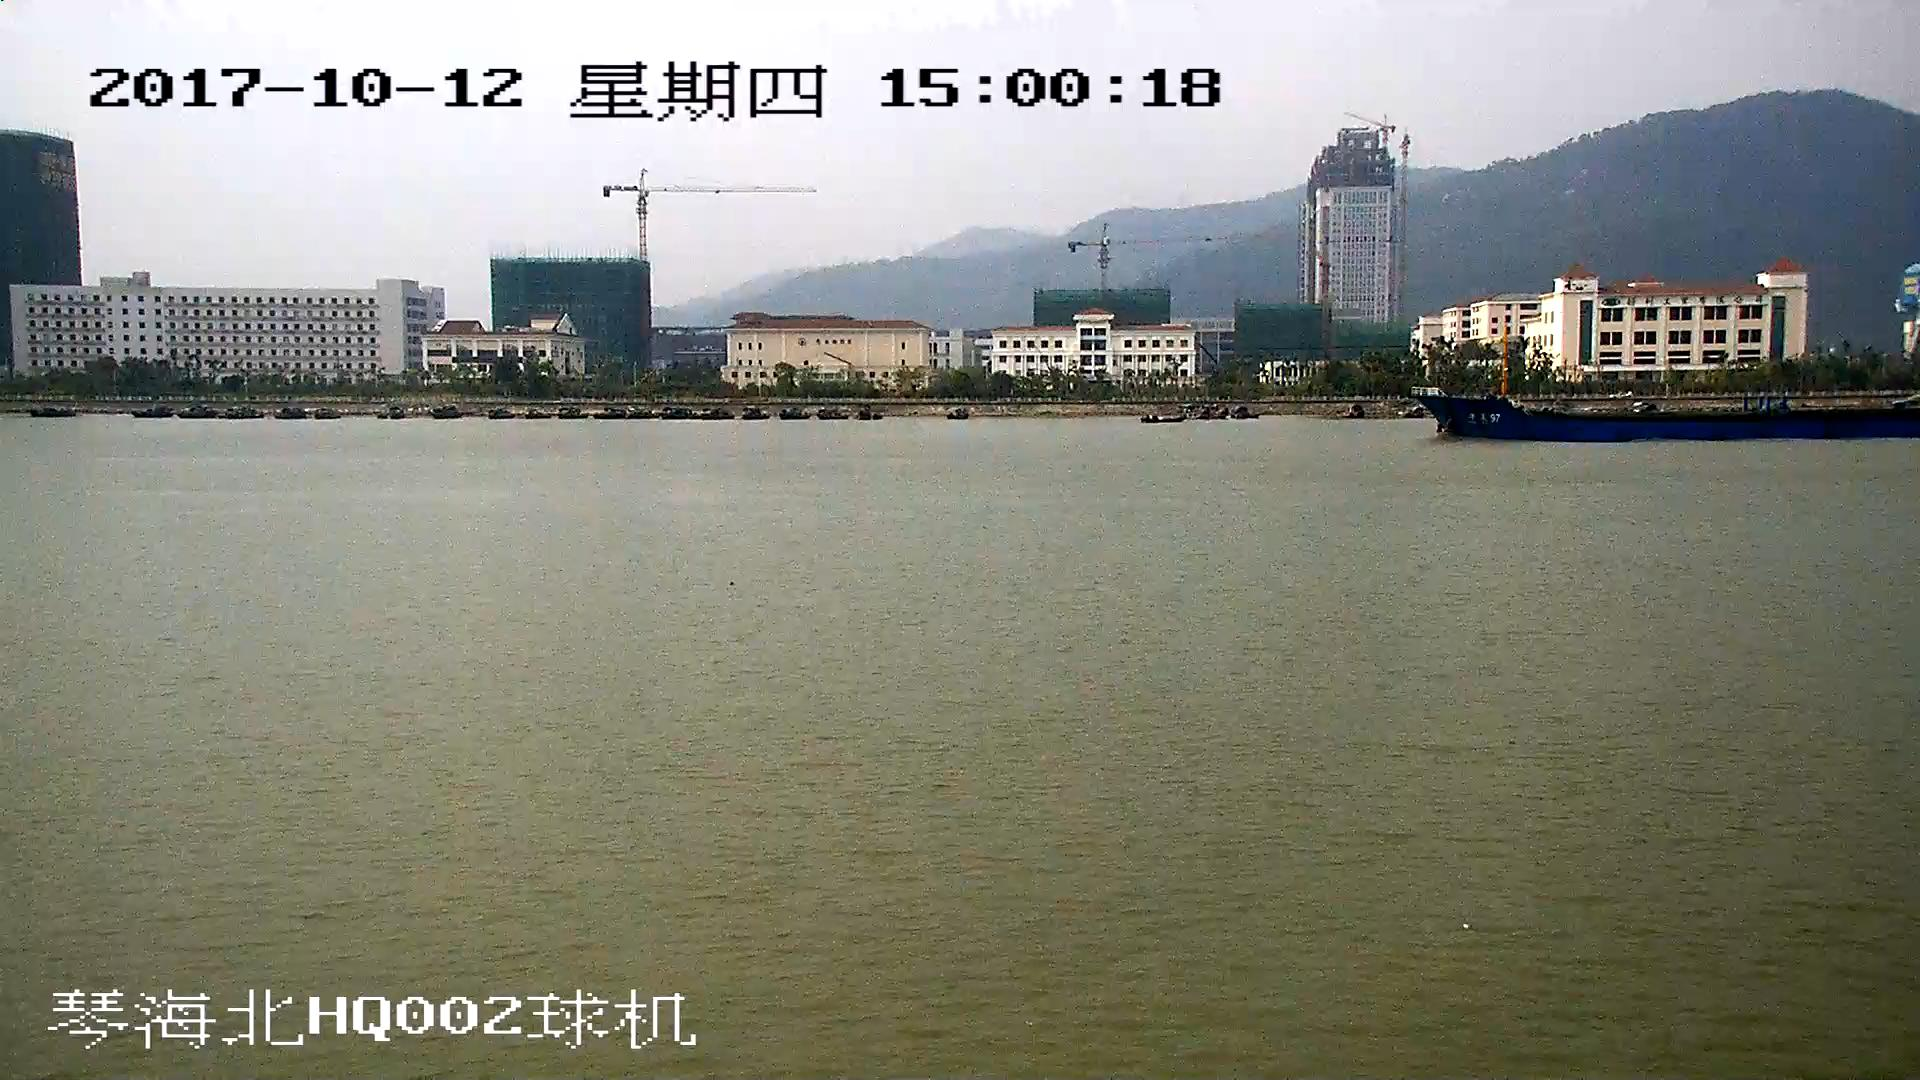general cargo ship: (1420, 331, 1920, 437)
